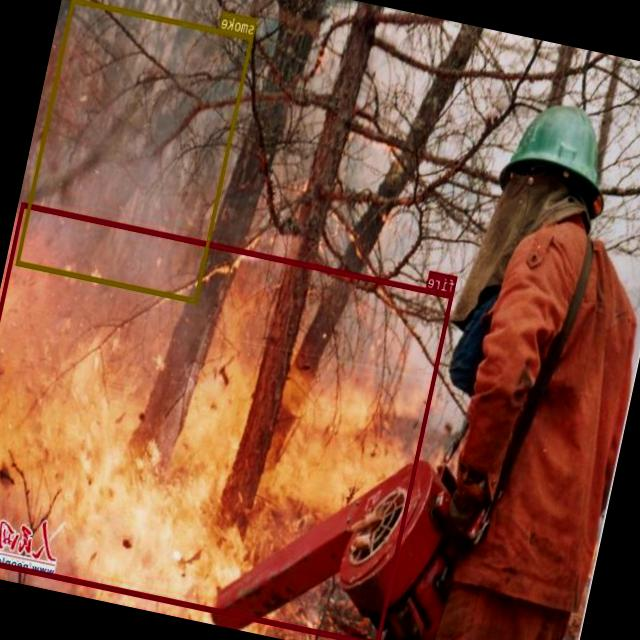fire: (0, 201, 454, 640)
smoke: (16, 0, 254, 302)
